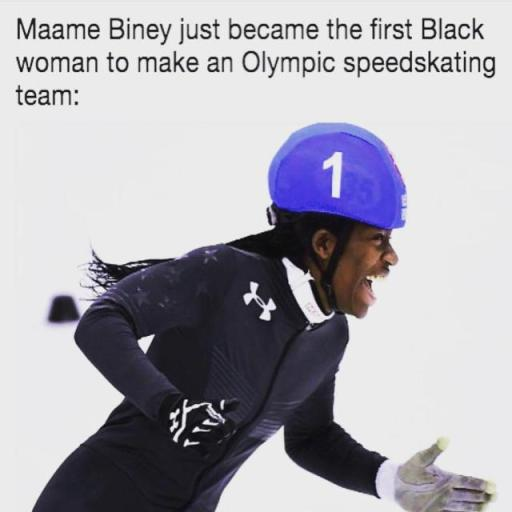Under Armour: (240, 278, 279, 324)
